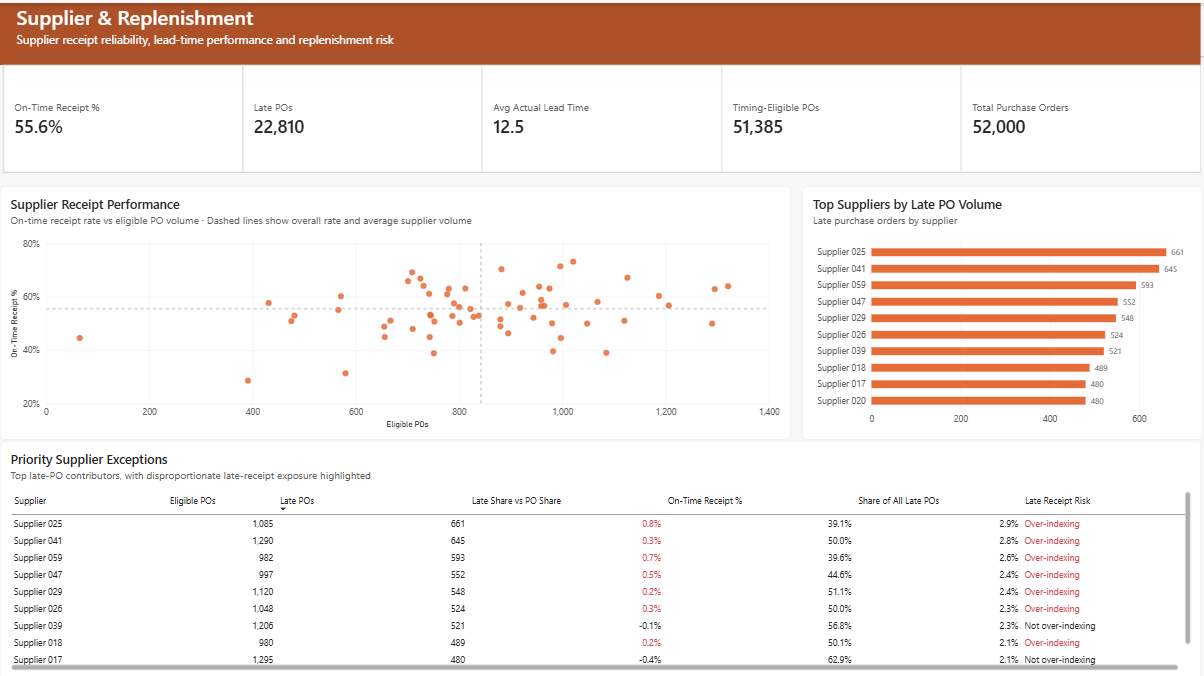

The dashboard page shown, as its layout file describes it:
{"tool":"powerbi","page":{"name":"Supplier & Replenishment","canvas":[1920,1080],"ordinal":1},"visuals":[{"type":"shape","box":[0,0,1911.3,98.9],"z":0},{"type":"shape","title":"Supplier & Replenishment","box":[26.4,0,1893.6,98.4],"z":1000},{"type":"cardVisual","fields":{"Data":["_Measures.On Time Receipt %","_Measures.Late PO Count","_Measures.Average Actual Lead Time Days","_Measures.Receipt Timing Eligible PO Count","_Measures.po count"]},"box":[4.8,98.4,1910.4,172.8],"z":2000},{"type":"scatterChart","title":"Supplier Receipt Performance","fields":{"X":["_Measures.Receipt Timing Eligible PO Count"],"Y":["_Measures.On Time Receipt %"],"Category":["suppliers.supplier_name"]},"box":[0,291.1,1257.4,403.2],"z":3000},{"type":"clusteredBarChart","title":"Top Suppliers by Late PO Volume","fields":{"Y":["_Measures.Late PO Count"],"Category":["suppliers.supplier_name"]},"box":[1276.5,291.1,637,403.2],"z":4000},{"type":"tableEx","title":"Priority Supplier Exceptions","fields":{"Values":["suppliers.supplier_name","_Measures.Receipt Timing Eligible PO Count","_Measures.Late PO Count","_Measures.Late PO Share Variance","_Measures.On Time Receipt %","_Measures.Late PO Share","_Measures.Supplier Late Risk Flag"]},"box":[0,696.7,1911.1,381.7],"z":5000}]}

Visuals, with their boxes in screenshot pixels (x1, y1, x2, y2), scaled from the page's 1920x1080 canvas onto the 1204x676 screenshot:
shape: bbox(0, 0, 1199, 62)
"Supplier & Replenishment" shape: bbox(17, 0, 1203, 62)
cardVisual - _Measures.On Time Receipt % x _Measures.Late PO Count: bbox(3, 62, 1201, 170)
"Supplier Receipt Performance" scatterChart: bbox(0, 182, 788, 435)
"Top Suppliers by Late PO Volume" clusteredBarChart: bbox(800, 182, 1200, 435)
"Priority Supplier Exceptions" tableEx: bbox(0, 436, 1198, 675)
